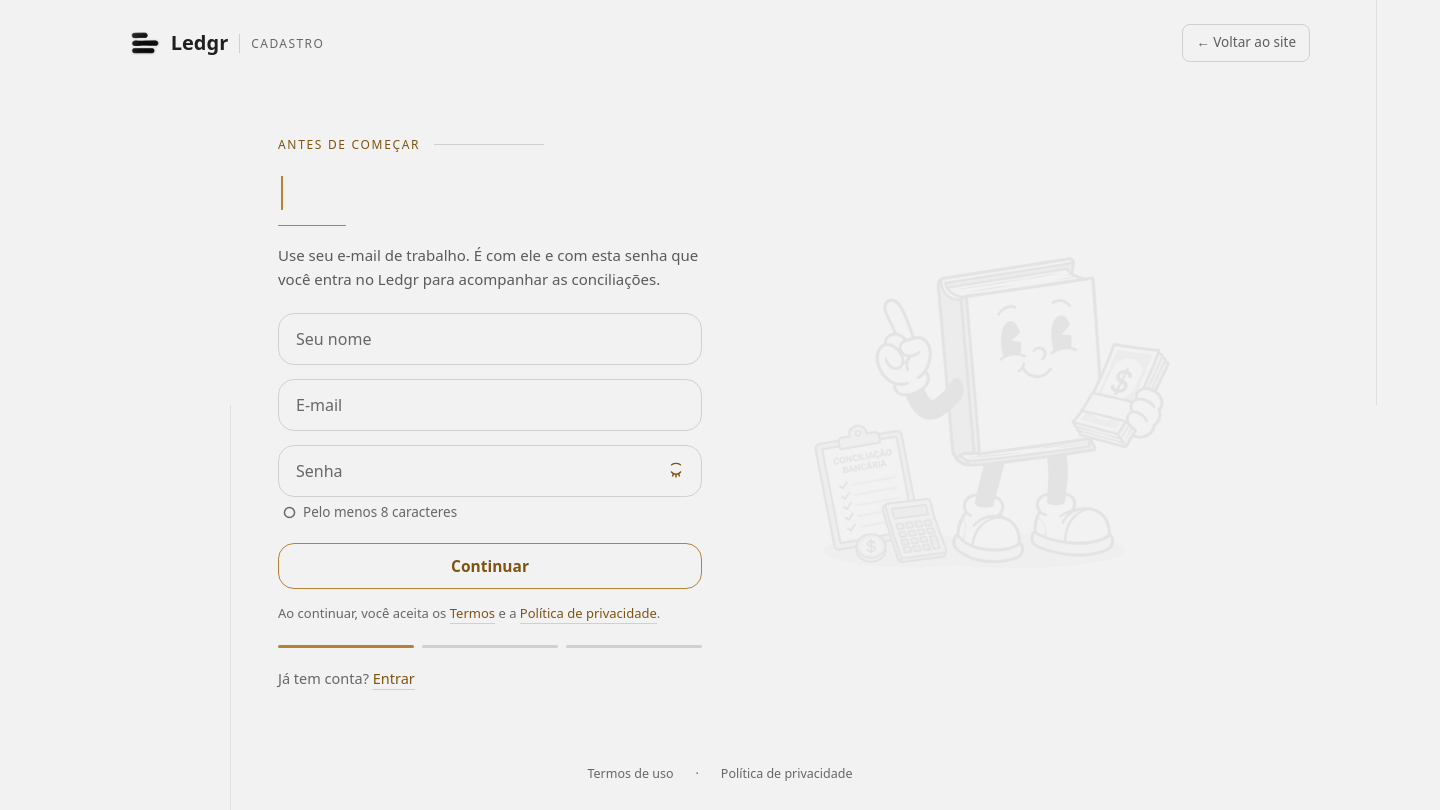
Scenario: CadastroPage › points out empty and invalid access fields next to each one and stays on the step
In the field labelled "E-mail": (490, 405) 278,379 -> 702,431, type "financeiro@"
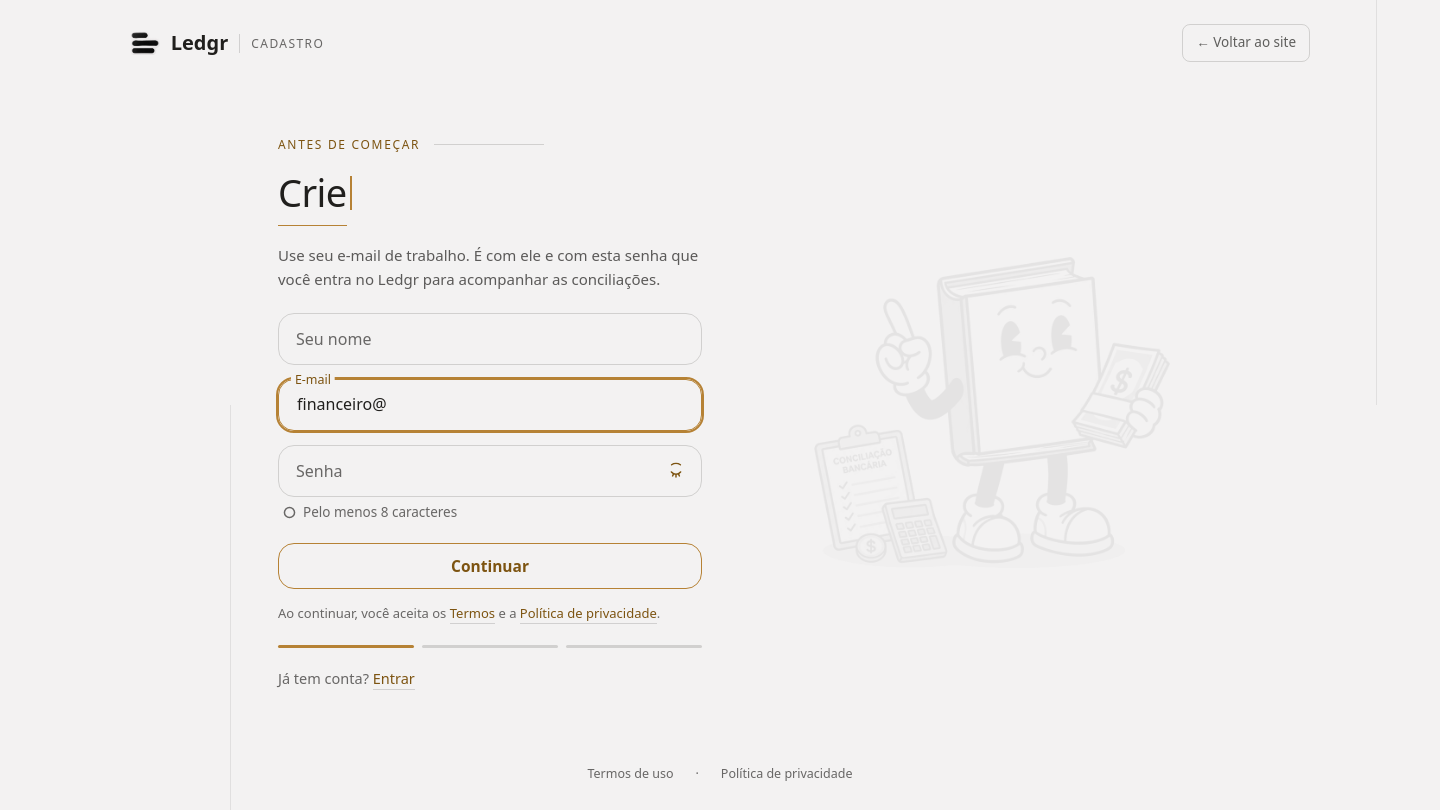
In the password field labelled "Senha": (490, 471) 278,445 -> 702,497, type "curta"
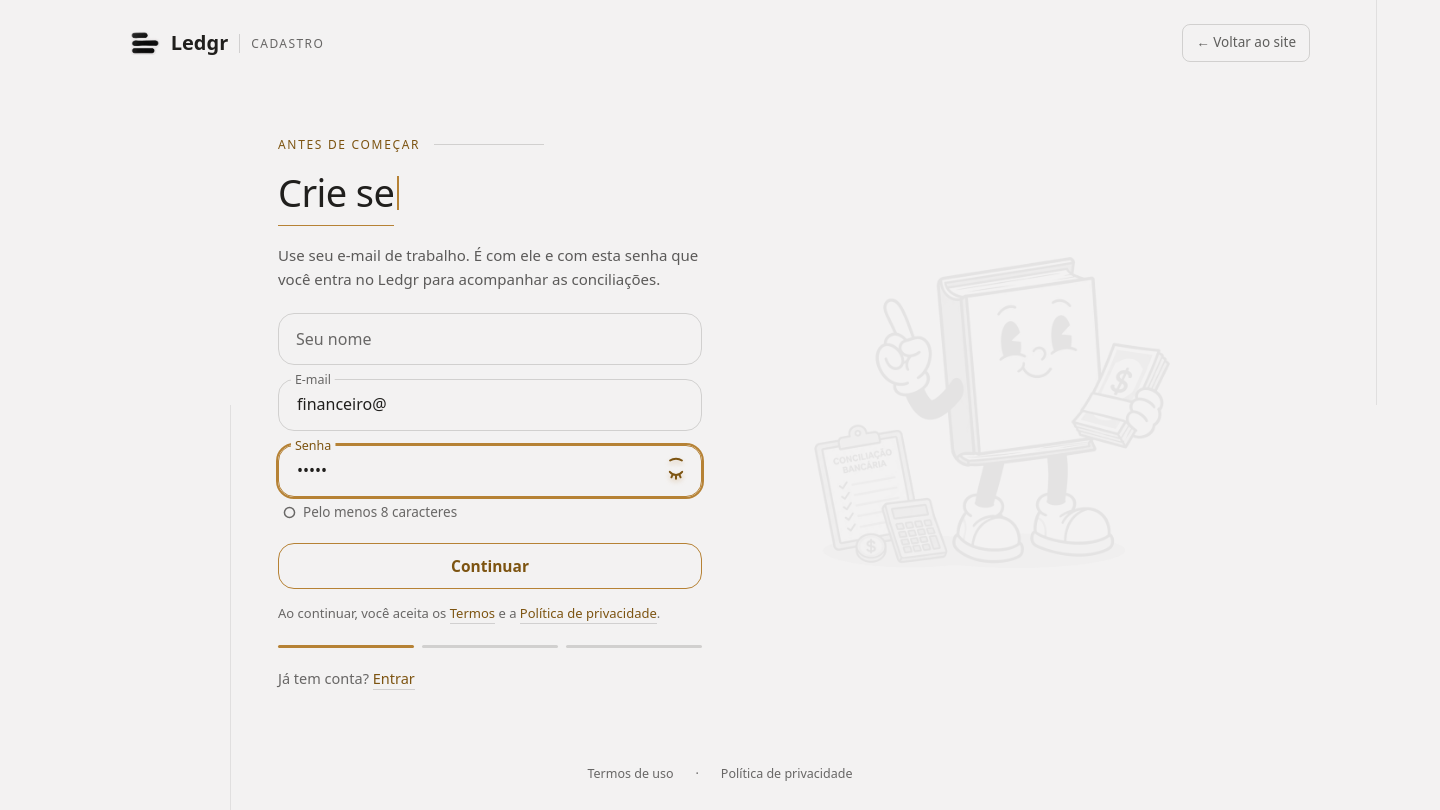
Click the button "Continuar": (490, 566) 278,543 -> 702,590
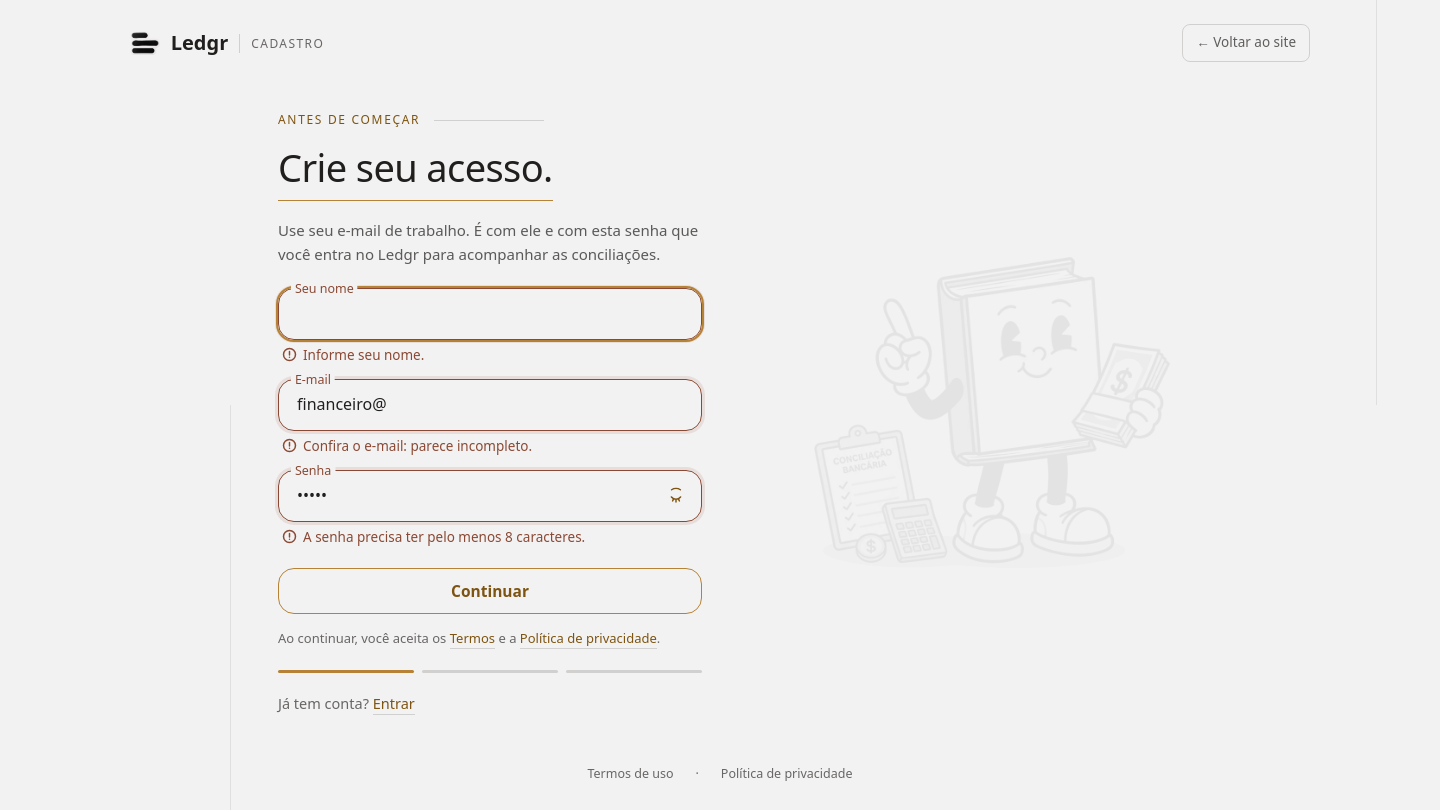
Now the heading reads "Crie seu acesso.", box 278,141 -> 553,193
